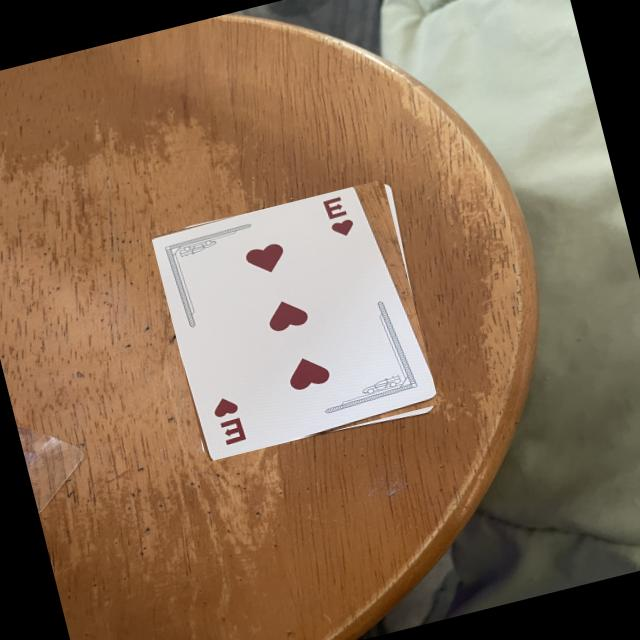3 of hearts: (153, 188, 436, 457)
